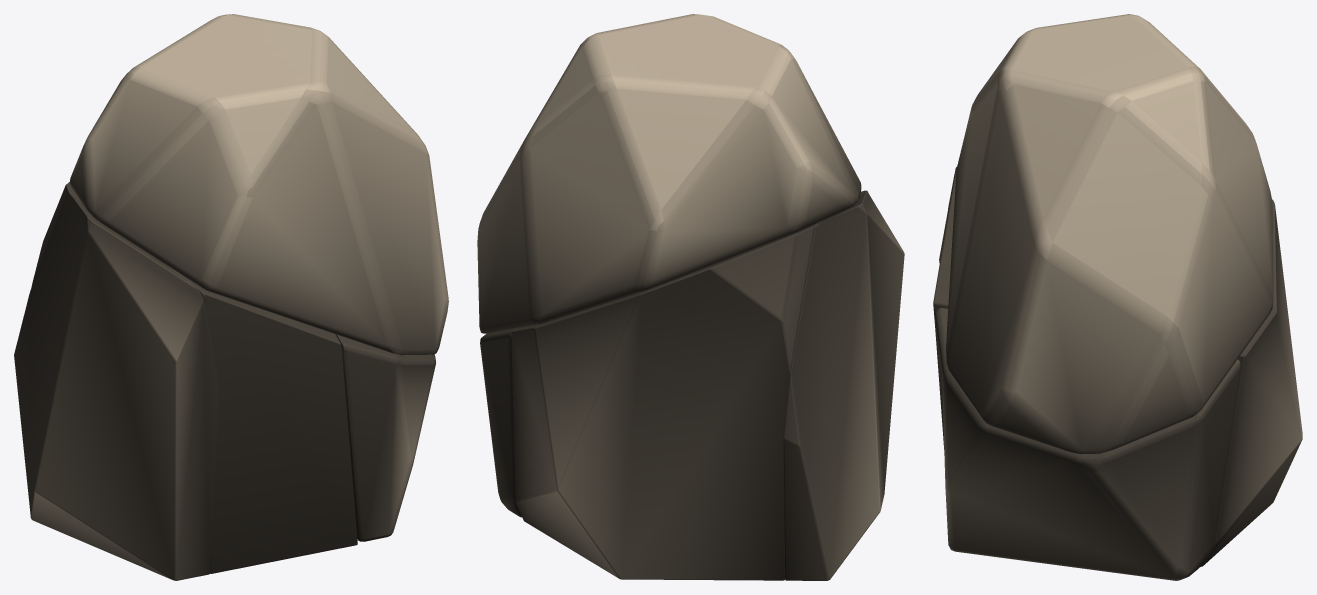
File: rock_03.glb
3 renders of one model, left to right at view 1: azimuth 30°, elevation 25°; view 2: azimuth 150°, elevation 25°; view 3: azimuth 270°, elevation 25°, orthographic. The views are drawn at different scales.
Visible parts, largest first — view 1: rock_03; view 2: rock_03; view 3: rock_03.
Boxes of the visible parts, left/top/right/bottom form: rock_03: left=14, top=14, right=448, bottom=580; rock_03: left=477, top=14, right=904, bottom=580; rock_03: left=933, top=14, right=1302, bottom=580.
Size of the model in its own units: 1.94 by 2.2 by 1.6.
